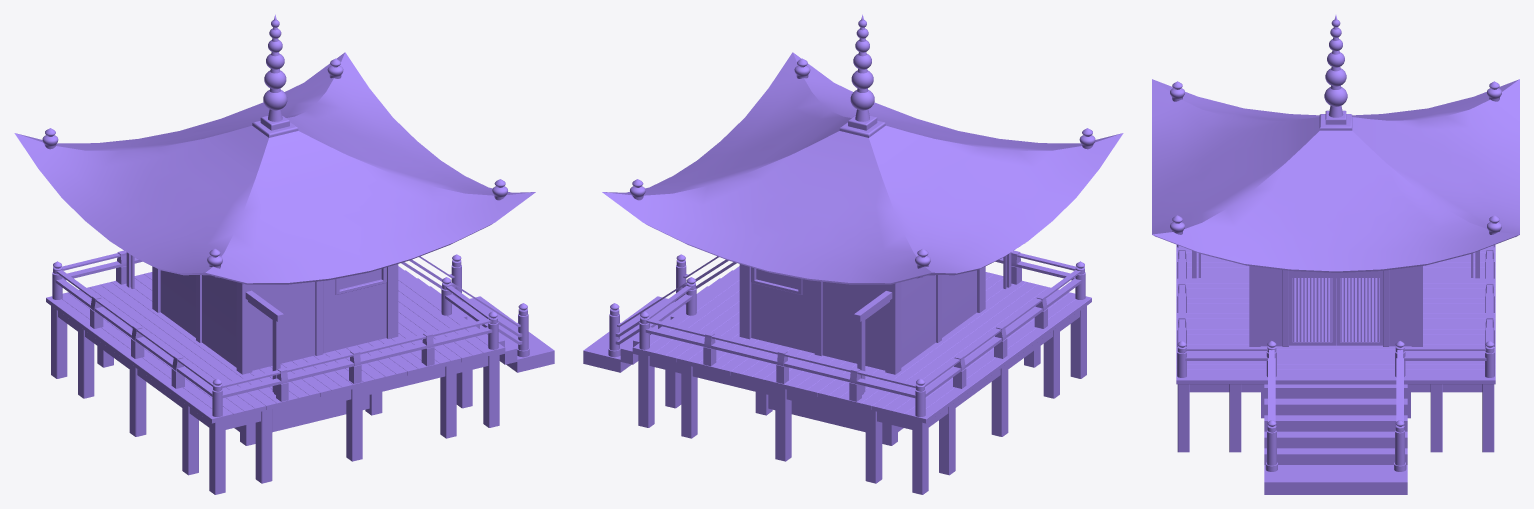
The model's file is temple_combineLOD0.fbx.
The picture shows the model from 3 angles, left to right: view 1: azimuth 30°, elevation 25°; view 2: azimuth 150°, elevation 25°; view 3: azimuth 270°, elevation 25°; orthographic projection. The views are drawn at different scales.
Parts seen in each view (by area): view 1: temple_combineLOD0; view 2: temple_combineLOD0; view 3: temple_combineLOD0.
Part boxes in pixels (x1=…): temple_combineLOD0: x1=14, y1=14, x2=554, y2=494; temple_combineLOD0: x1=583, y1=14, x2=1123, y2=494; temple_combineLOD0: x1=1152, y1=15, x2=1519, y2=494.
Bounding box in the file's own units: 1082 × 981 × 878.
